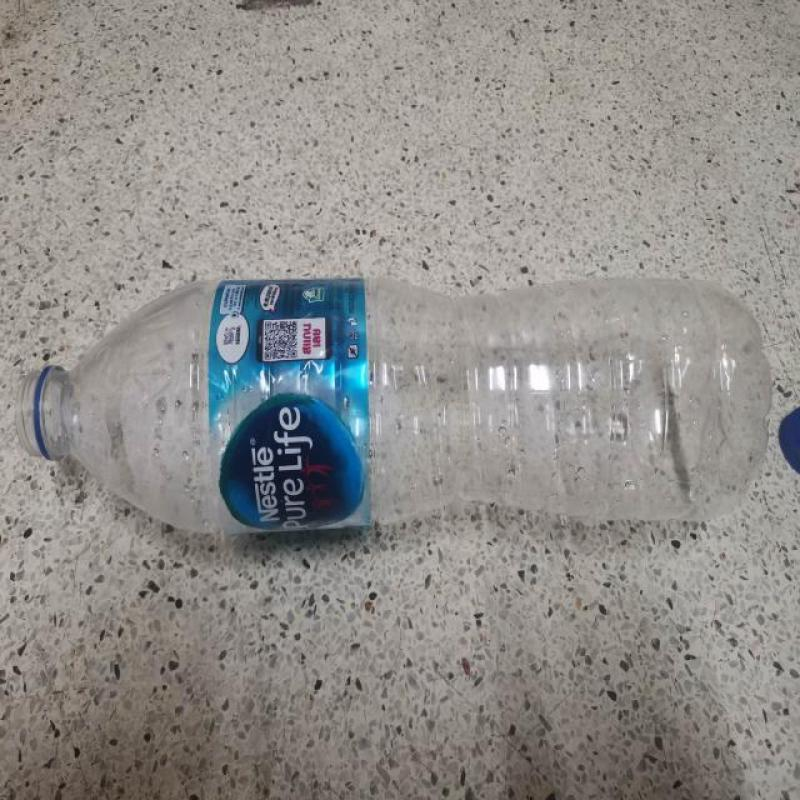botella: (15, 278, 771, 533)
